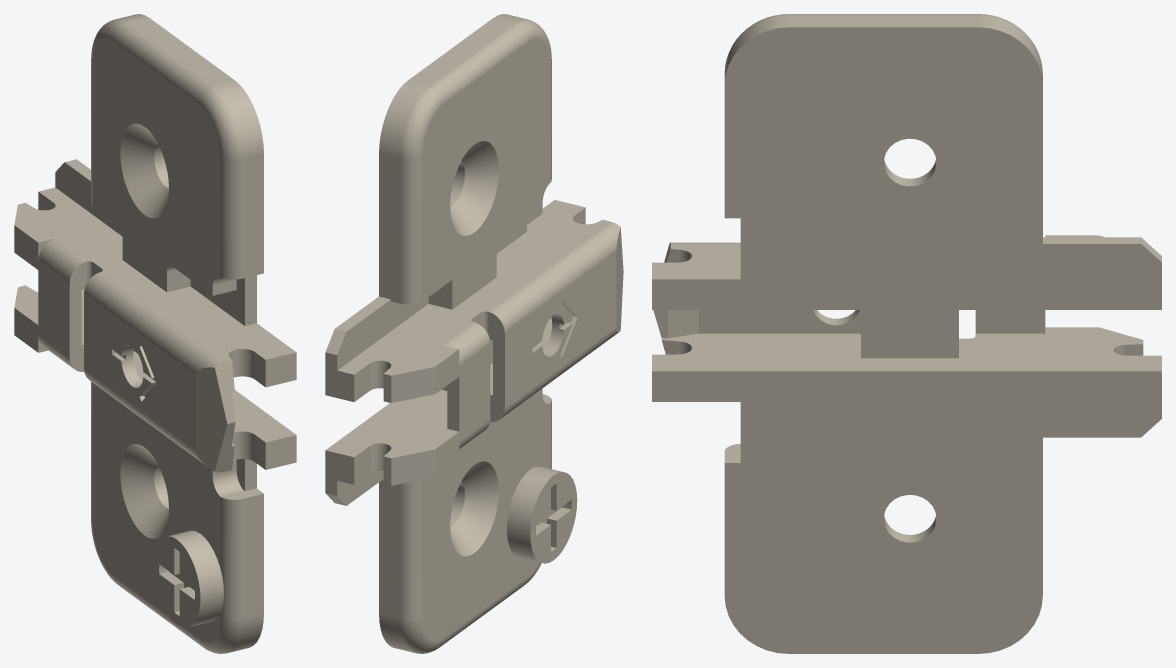
The picture shows the model from 3 angles, left to right: view 1: azimuth 30°, elevation 25°; view 2: azimuth 150°, elevation 25°; view 3: azimuth 270°, elevation 25°; orthographic projection. The views are drawn at different scales.
Parts seen in each view (by area): view 1: bau0006168467; view 2: bau0006168467; view 3: bau0006168467.
Boxes of the visible parts, x1,y1,x2,y2 form: bau0006168467: (14, 14, 296, 653); bau0006168467: (325, 14, 623, 653); bau0006168467: (652, 14, 1161, 653).
Bounding box in the file's own units: 8.5 × 56.3 × 41.51.
